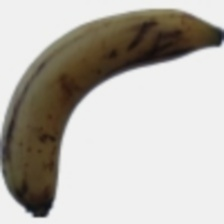banana: (15, 28, 204, 201)
